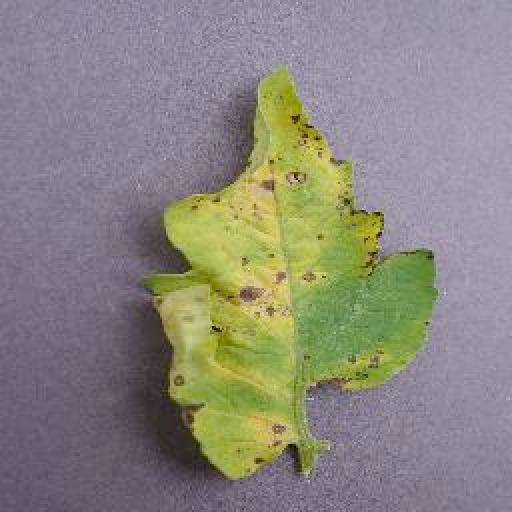disease_tomato: (138, 63, 435, 485)
